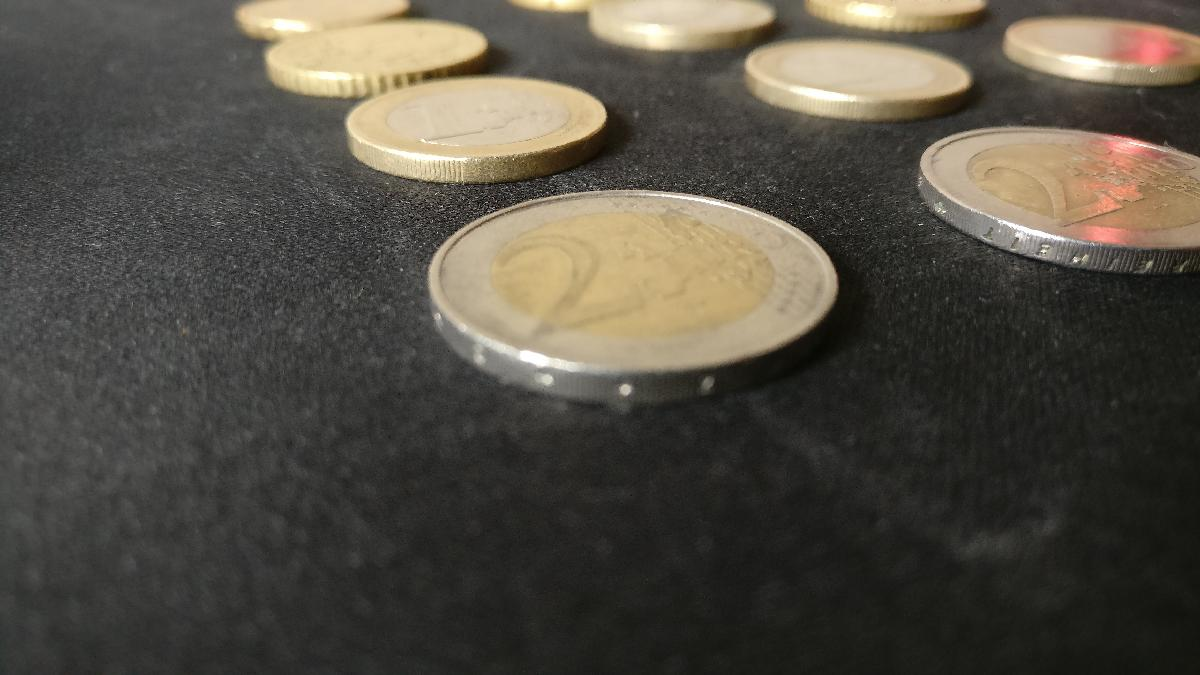Fifty Cent: (268, 21, 490, 88), (796, 1, 993, 34)
One Euro: (345, 75, 616, 184), (737, 37, 982, 117), (1002, 11, 1200, 98), (587, 1, 778, 46)
Two Euro: (424, 186, 853, 411), (906, 125, 1200, 287)
